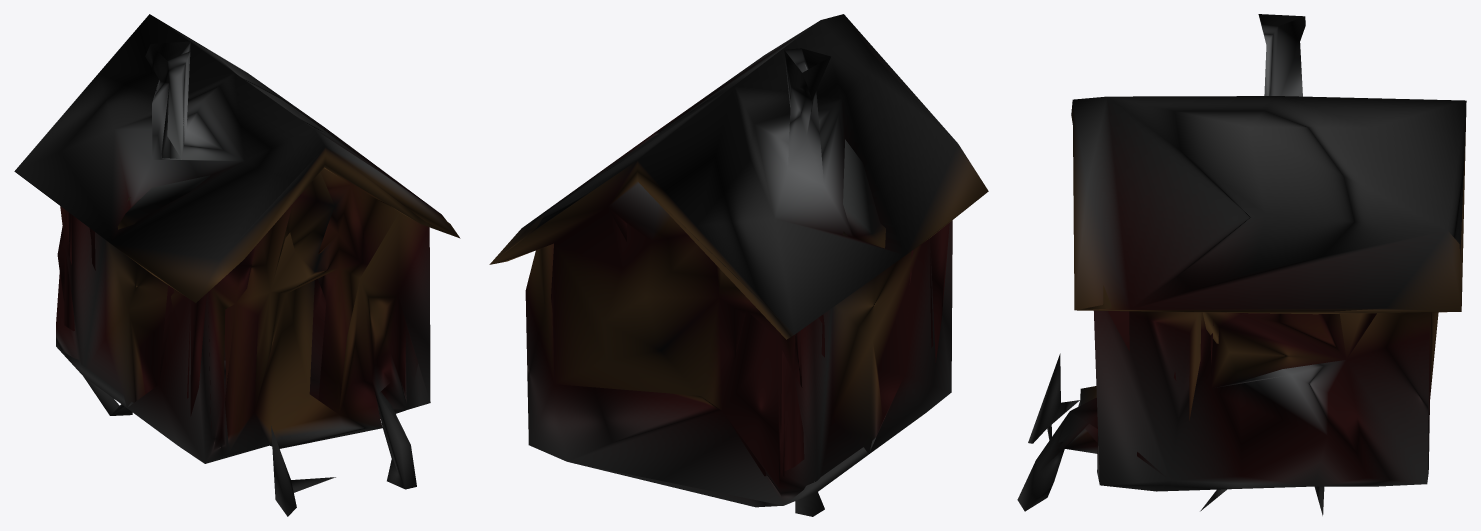
The model's file is gen3d-ice-fishing-hut-lod1.glb.
The picture shows the model from 3 angles, left to right: view 1: azimuth 30°, elevation 25°; view 2: azimuth 150°, elevation 25°; view 3: azimuth 270°, elevation 25°; orthographic projection. The views are drawn at different scales.
Parts seen in each view (by area): view 1: part_0; view 2: part_0; view 3: part_0.
Part boxes in pixels (box(x1,y1,x2,y2)): part_0: box(14, 14, 460, 516); part_0: box(489, 14, 988, 516); part_0: box(1017, 14, 1466, 515).
Size of the model in its own units: 0.7477 by 0.9976 by 0.9529.
